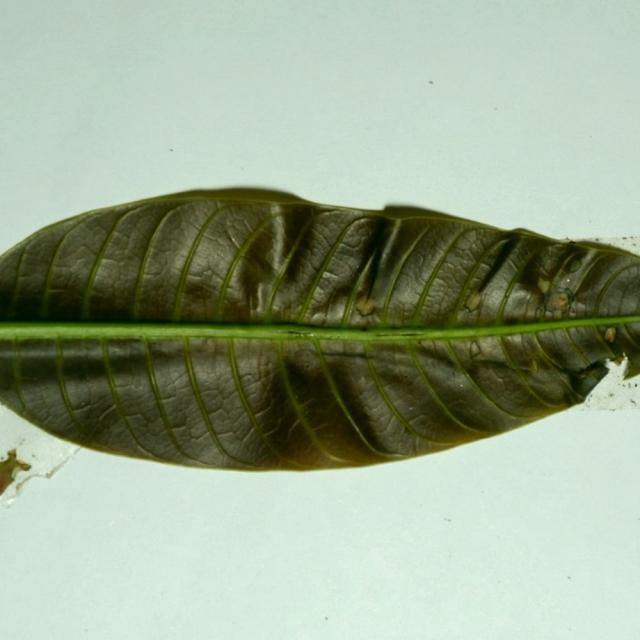Anthracnose: (294, 344, 384, 458), (179, 344, 259, 464), (395, 343, 484, 437), (138, 342, 195, 459), (165, 207, 222, 318), (265, 214, 325, 317), (492, 332, 575, 406), (80, 209, 134, 318), (372, 223, 430, 320), (98, 342, 140, 452), (6, 222, 51, 321), (52, 341, 91, 441), (590, 260, 640, 327), (454, 264, 496, 322), (366, 213, 485, 230), (11, 337, 30, 424), (562, 238, 634, 260), (252, 264, 271, 315), (223, 225, 247, 252)
Mango: (0, 188, 639, 475)
